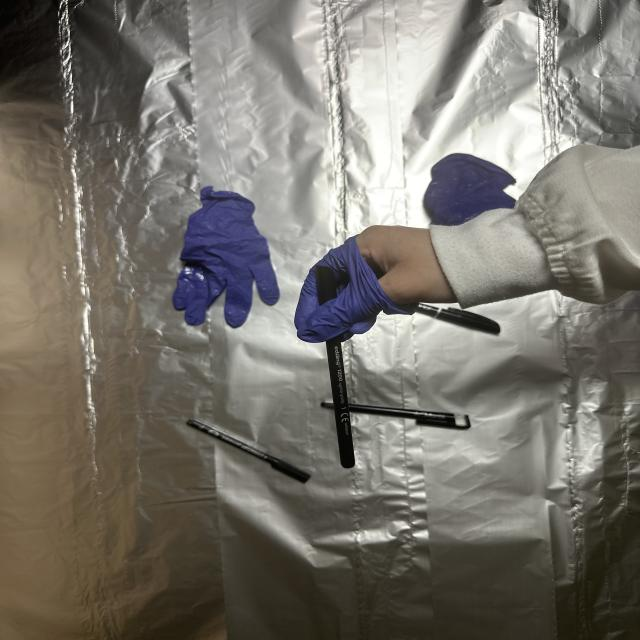glove_partial: (292, 220, 459, 344)
